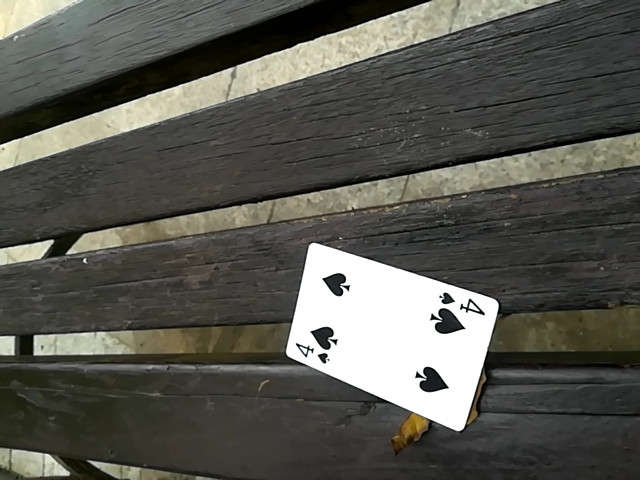ht 4: (285, 243, 506, 436)
